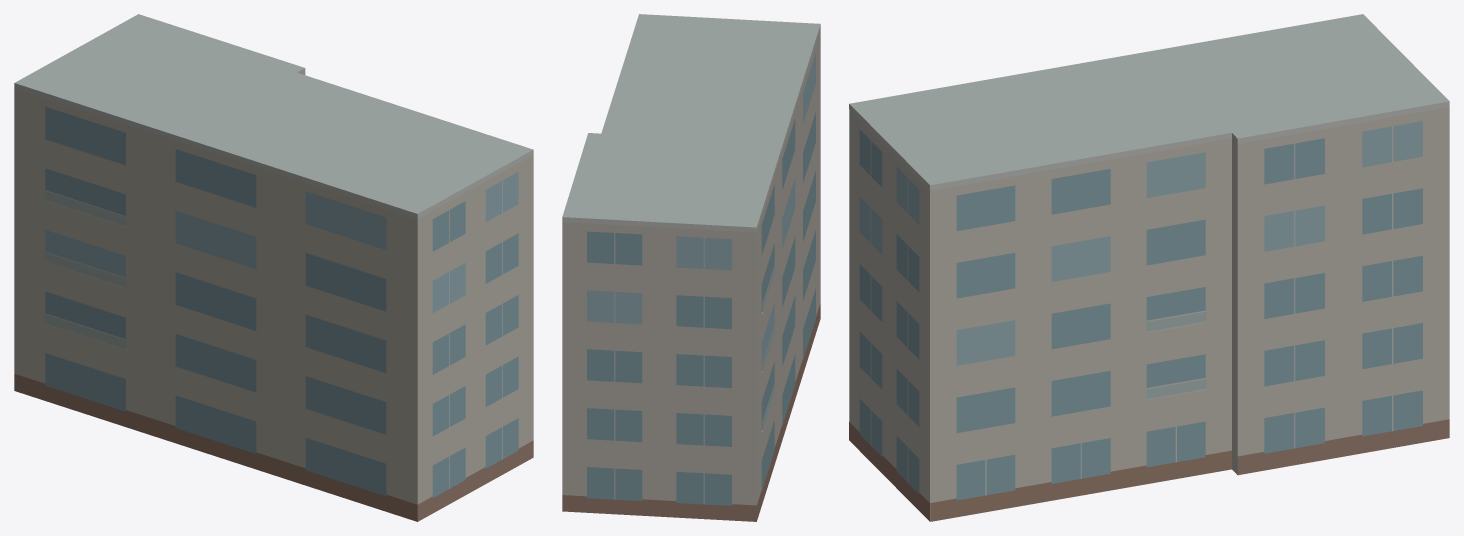
Rendered from survey-upis-32731608.glb.
The picture shows the model from 3 angles, left to right: view 1: azimuth 30°, elevation 25°; view 2: azimuth 150°, elevation 25°; view 3: azimuth 270°, elevation 25°; orthographic projection. The views are drawn at different scales.
Parts seen in each view (by area): view 1: survey-upis-32731608.tmp; view 2: survey-upis-32731608.tmp; view 3: survey-upis-32731608.tmp.
Boxes of the visible parts, x1,y1,x2,y2 form: survey-upis-32731608.tmp: (14, 14, 533, 521); survey-upis-32731608.tmp: (562, 14, 820, 521); survey-upis-32731608.tmp: (849, 14, 1449, 521).
Bounding box in the file's own units: 15.94 × 14.6 × 23.62.
